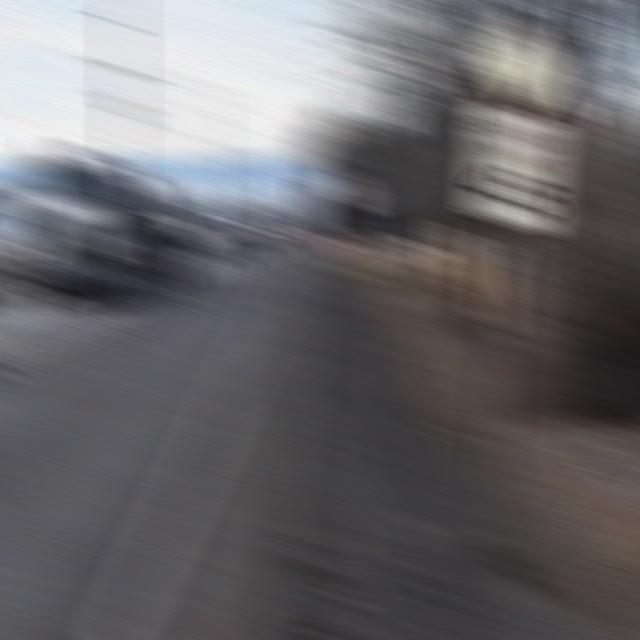speedLimit45: (471, 104, 558, 228)
